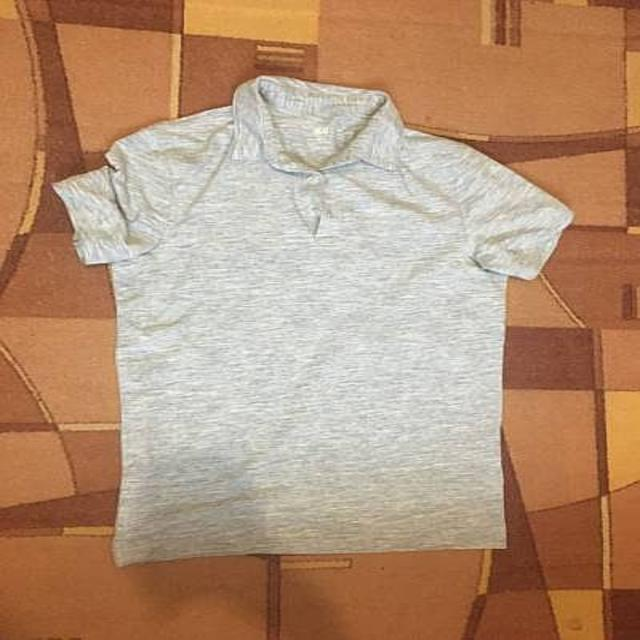T_SHIRT: (43, 70, 570, 571)
